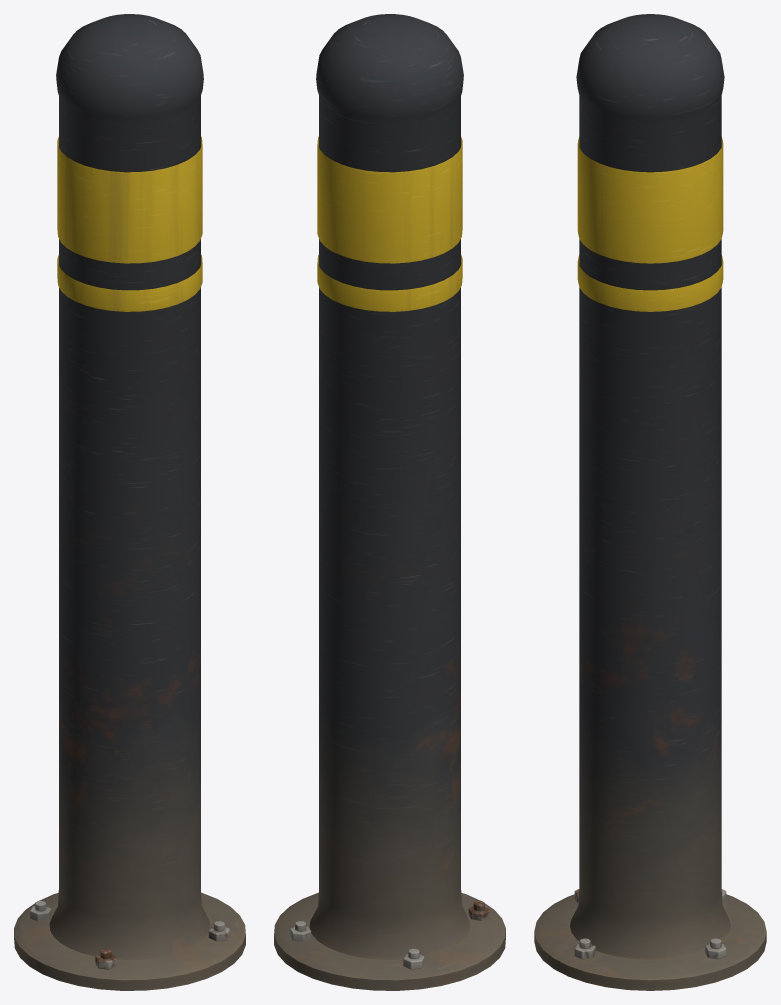
File: StreetBollard.fbx
The picture shows the model from 3 angles, left to right: view 1: azimuth 30°, elevation 25°; view 2: azimuth 150°, elevation 25°; view 3: azimuth 270°, elevation 25°; orthographic projection.
Parts seen in each view (by area): view 1: StreetBollard_Body; view 2: StreetBollard_Body; view 3: StreetBollard_Body.
Boxes of the visible parts, x1,y1,x2,y2 form: StreetBollard_Body: (14,14,245,990); StreetBollard_Body: (274,14,505,990); StreetBollard_Body: (534,14,766,990).
Bounding box in the file's own units: 0.196 × 0.853 × 0.196.
